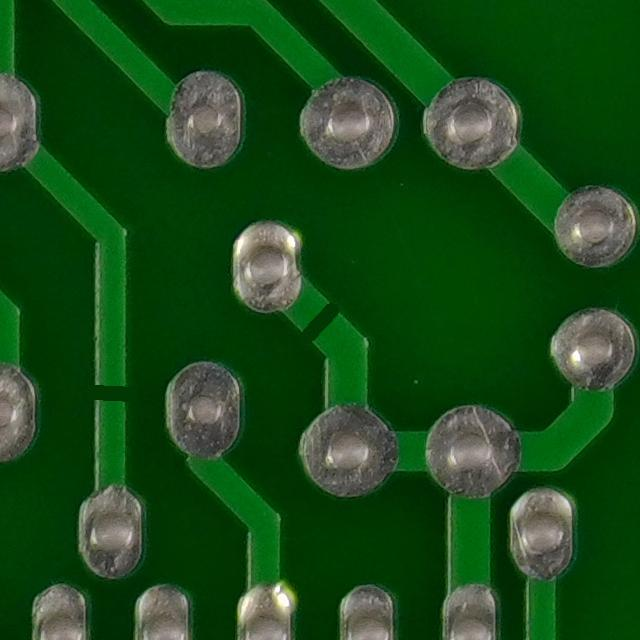open_circuit: (287, 288, 353, 352)
